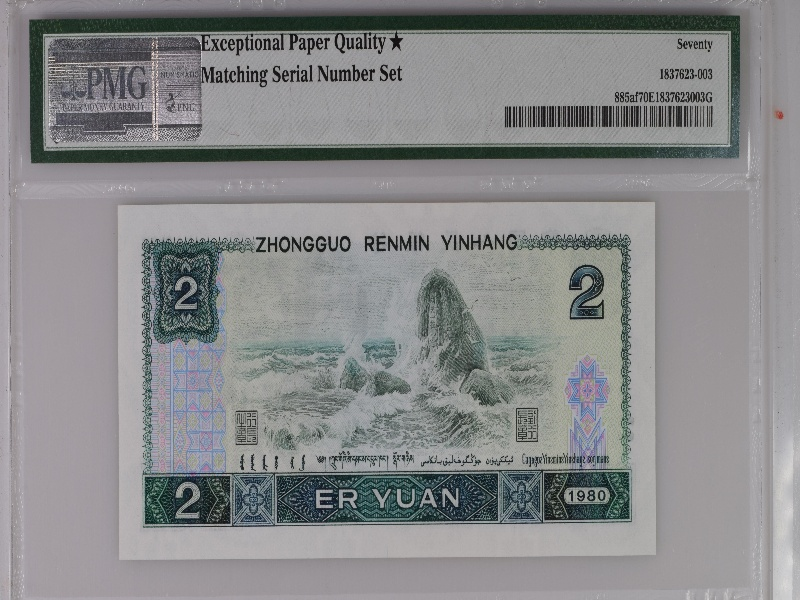papernote: (115, 199, 659, 558)
